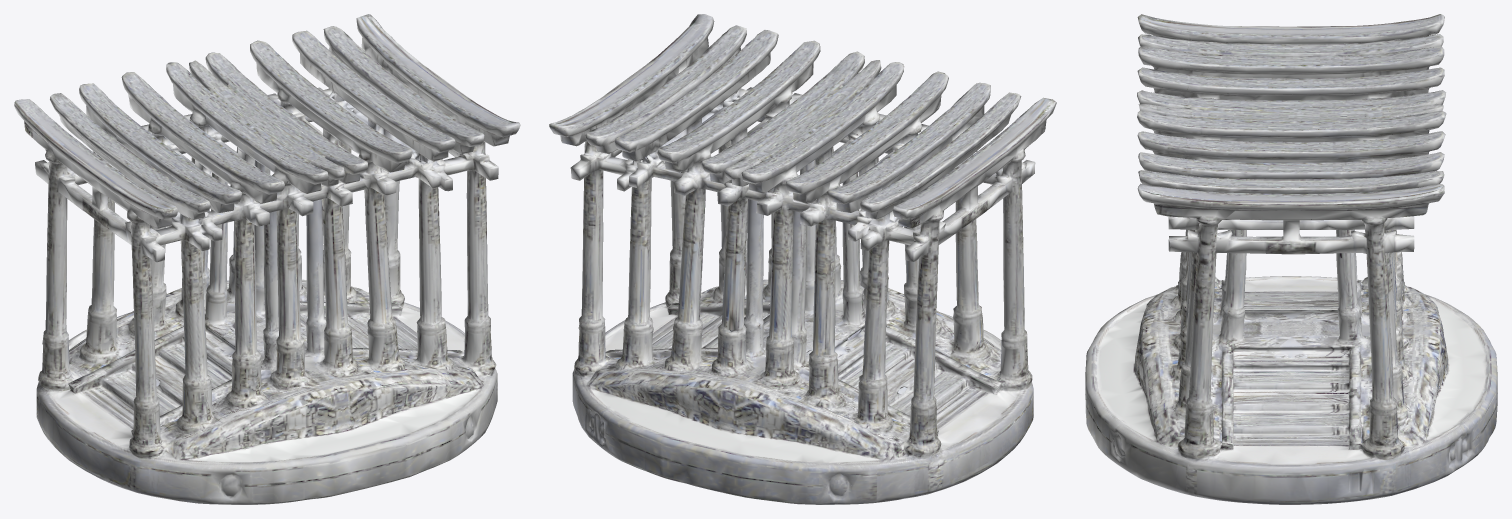
File: fushimi_inari_diamond.glb
3 views of the same model, side by side, from view 1: azimuth 30°, elevation 25°; view 2: azimuth 150°, elevation 25°; view 3: azimuth 270°, elevation 25° (orthographic).
Parts seen in each view (by area): view 1: Mesh_0; view 2: Mesh_0; view 3: Mesh_0.
Boxes of the visible parts, box(x1,y1,x2,y2) form: Mesh_0: box(14, 14, 520, 504); Mesh_0: box(549, 14, 1056, 504); Mesh_0: box(1085, 14, 1497, 504).
Size of the model in its own units: 1.91 by 1.4 by 1.7.
1 material, 1 textured.
